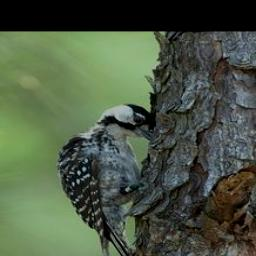Woodpecker: (54, 104, 156, 256)
